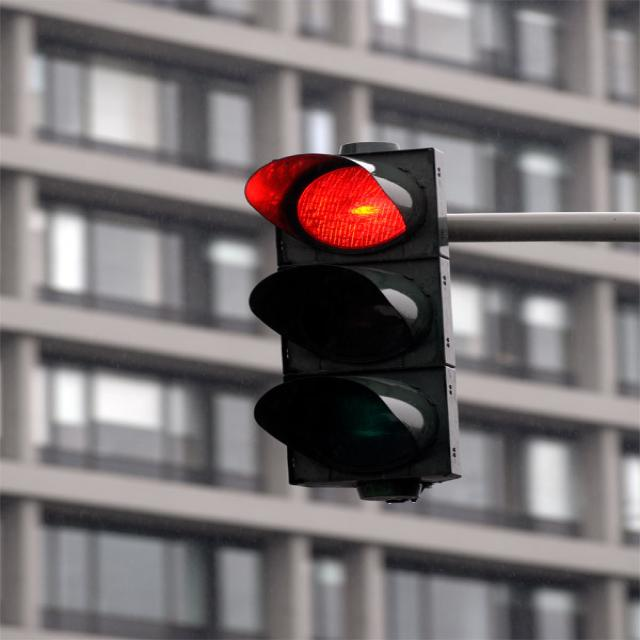red: (257, 159, 432, 249)
